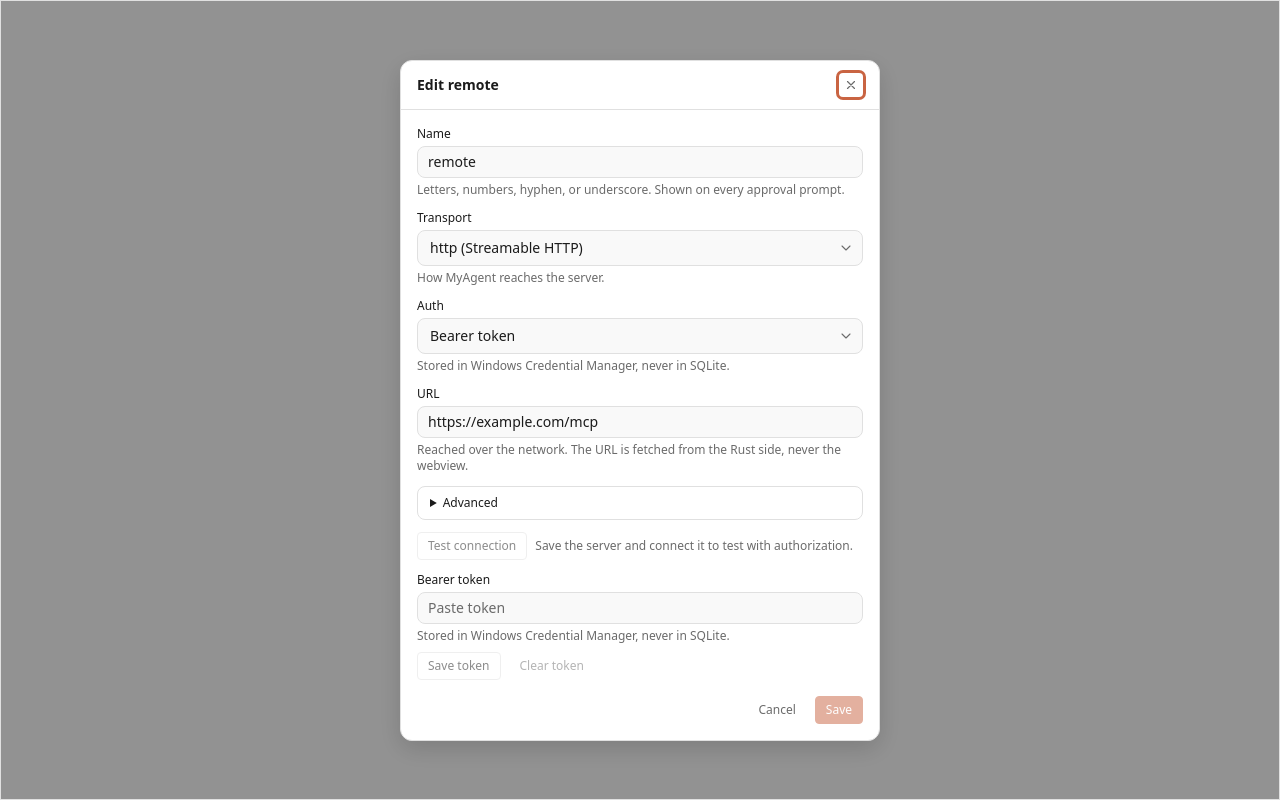
Test: McpServerDialog bearer token › saves the token without putting it in the server draft
In the password field with placeholder "Paste token": (640, 608) x1=417 y1=592 x2=863 y2=624, type "secret-token"
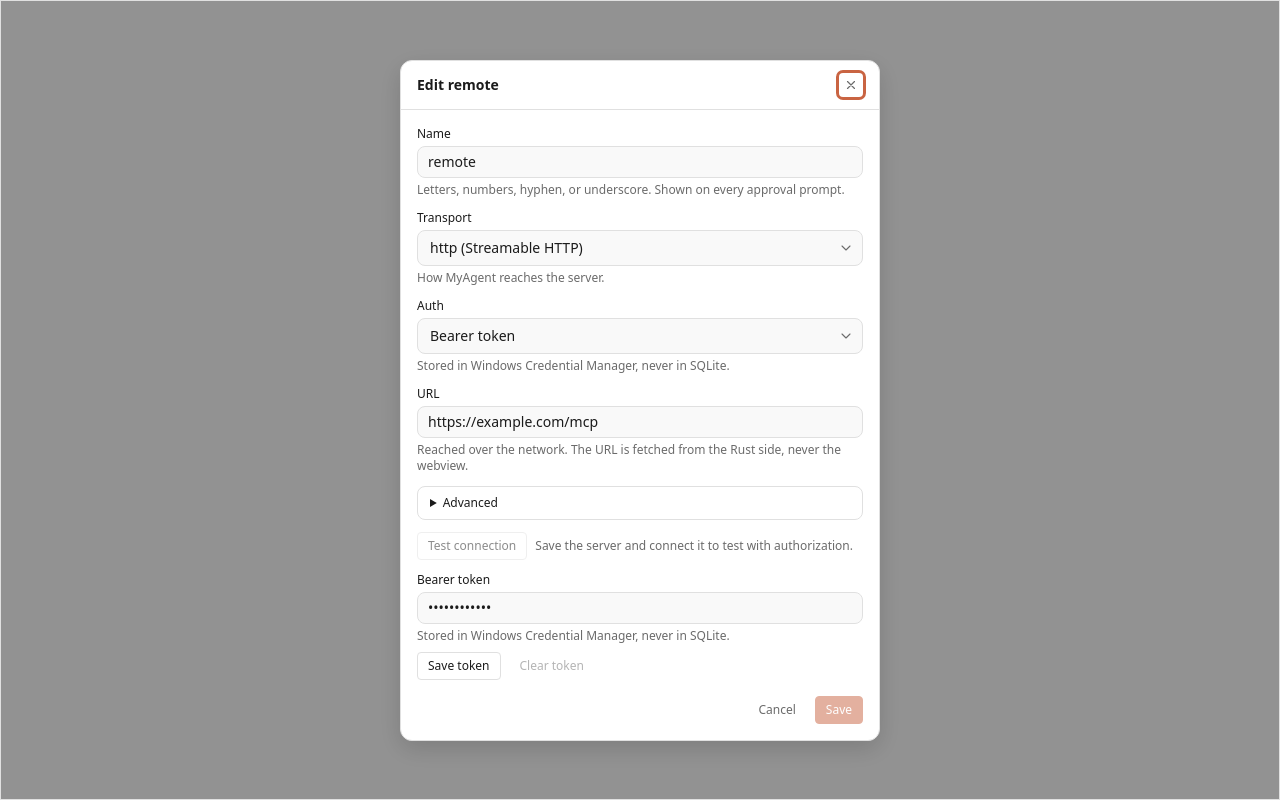
Click the button "Save token": (459, 666) x1=417 y1=652 x2=500 y2=680
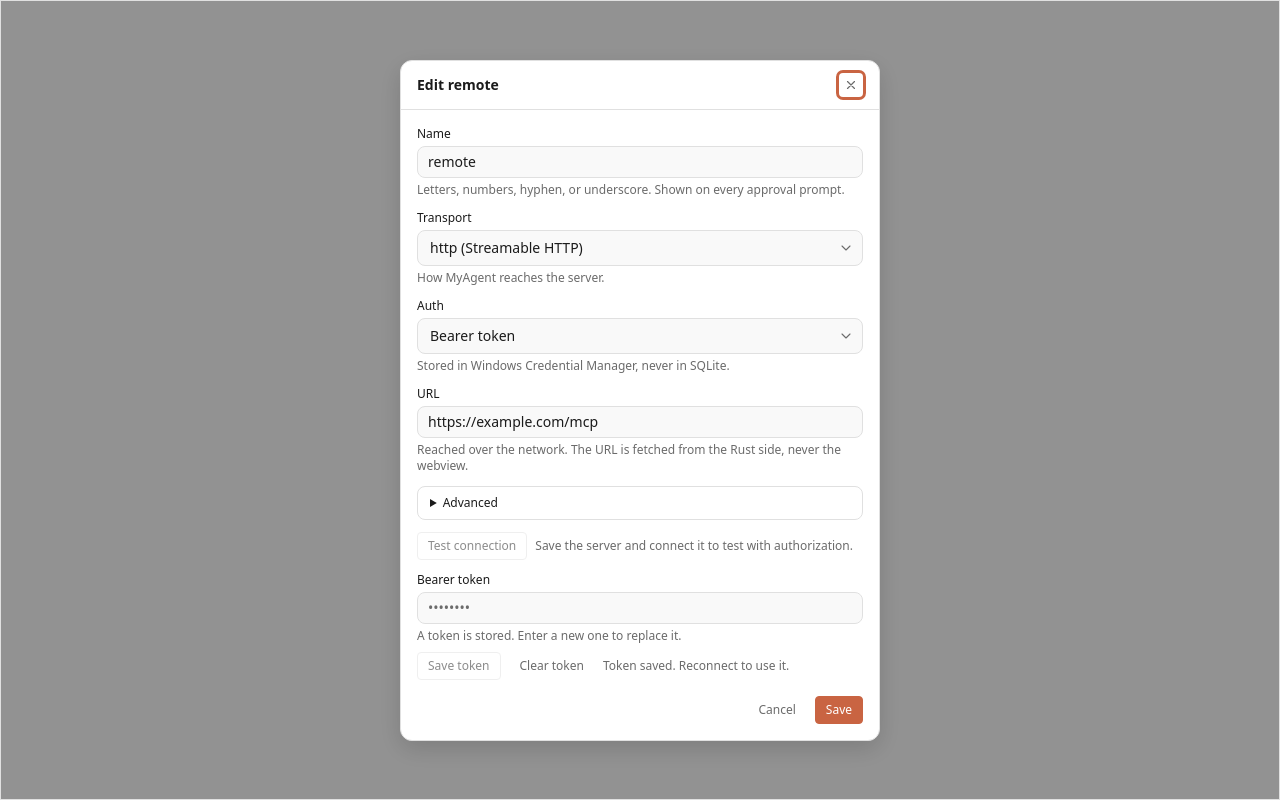
Expected: the text "Token saved. Reconnect to use it." is shown, x1=603 y1=658 x2=789 y2=674
